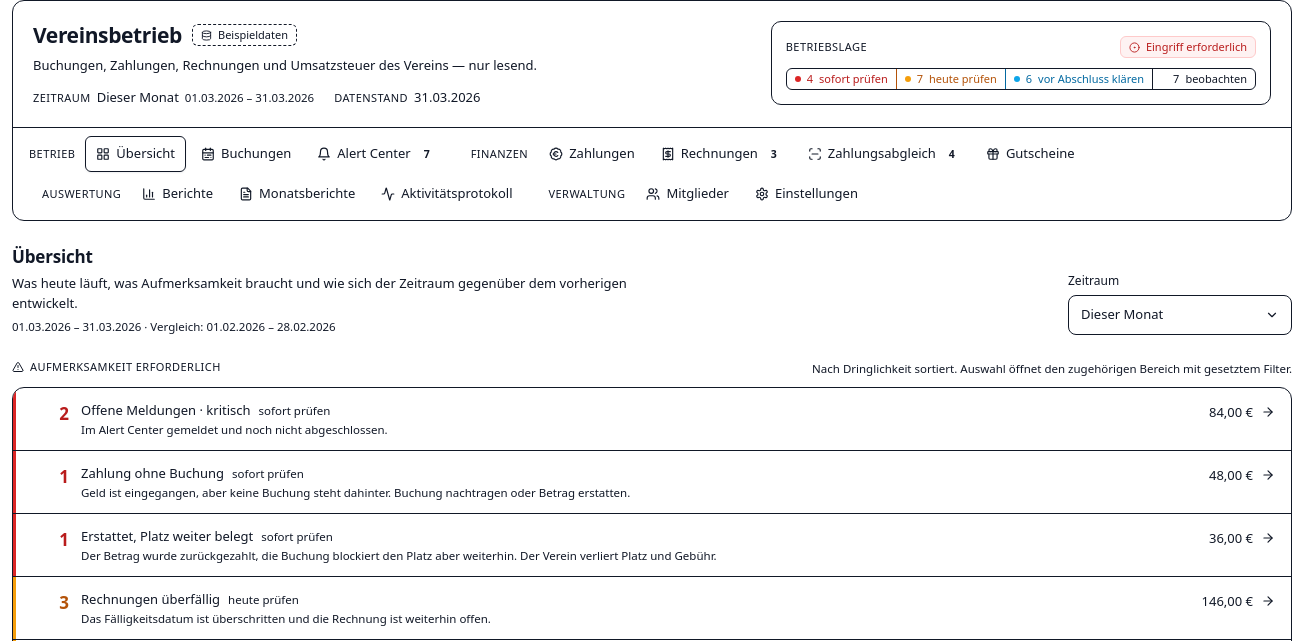
Test: drill-down from the overview › lets an attention row open its own section
Expected: the heading "Aufmerksamkeit erforderlich" is shown, left=12, top=359, right=221, bottom=375
What coordinates should you click on to do the following:
click the button with aria-label "öffnen"
I would click on:
 (166, 410)
Its box is left=13, top=388, right=1291, bottom=450.
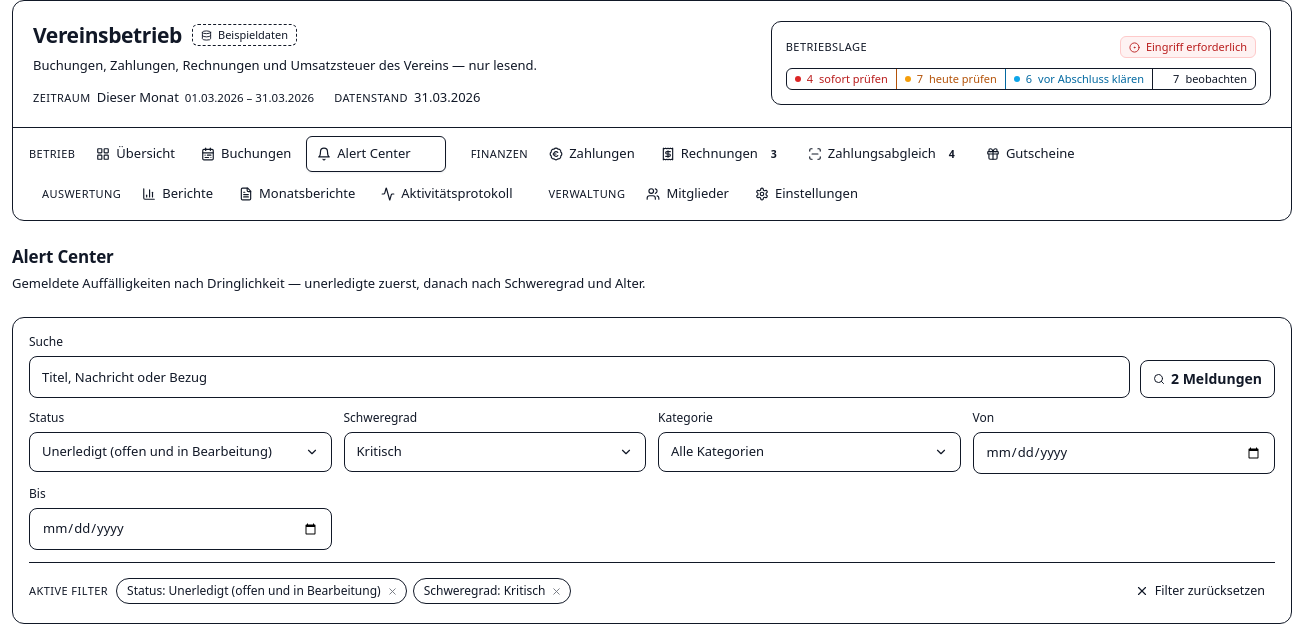
Now the heading "Alert Center" is shown, box left=12, top=245, right=114, bottom=268
